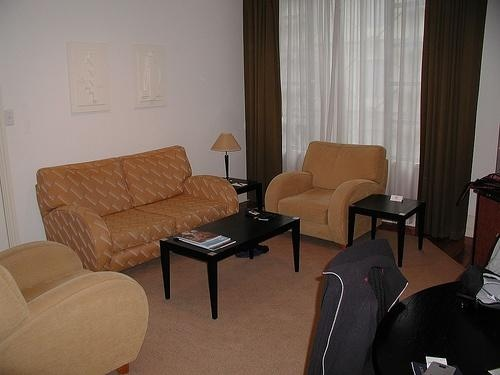chair: (1, 230, 153, 375), (262, 140, 390, 246)
sofa: (28, 146, 241, 279)
